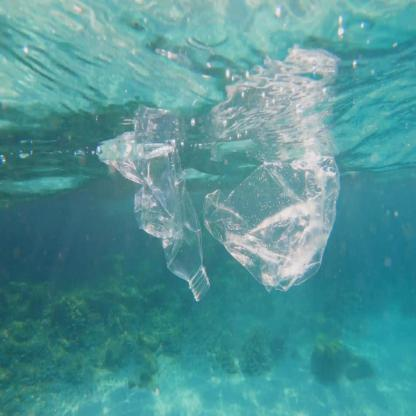Rác: (202, 148, 354, 312), (107, 141, 211, 302)
